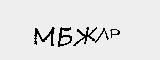Б: (56, 24, 75, 49)
Ж: (74, 24, 96, 47)
Л: (97, 25, 109, 44)
М: (32, 24, 55, 48)
Р: (109, 27, 122, 44)
